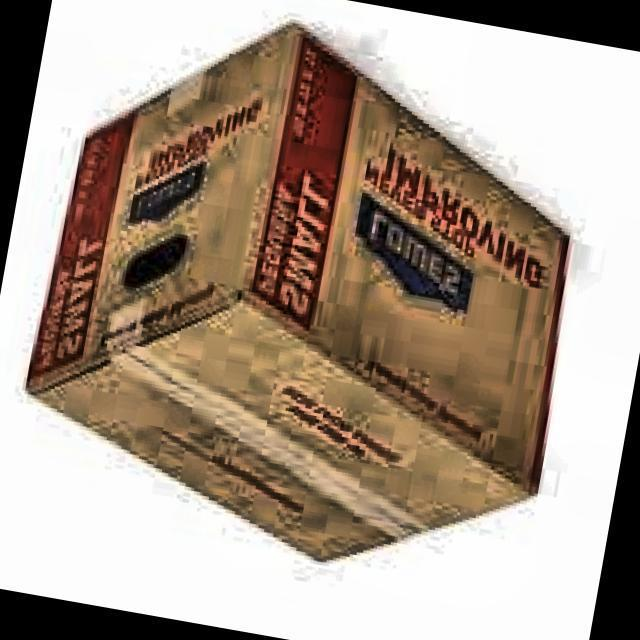cardboard: (0, 0, 610, 603)
